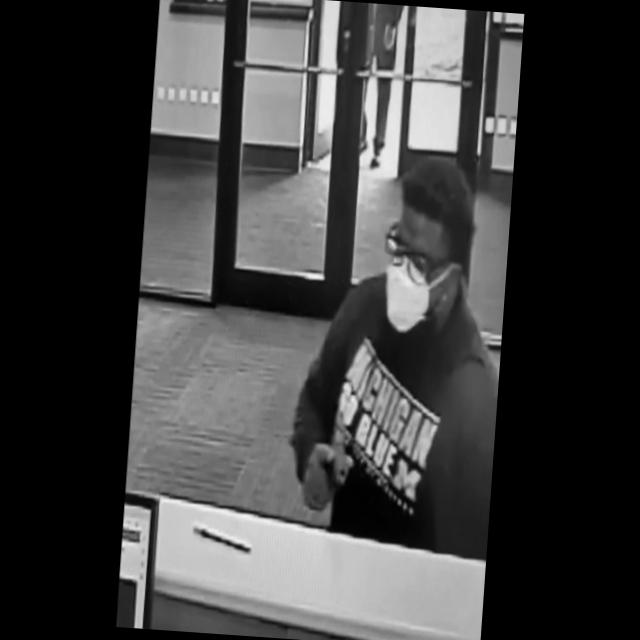gun: (314, 427, 354, 510)
person with a gun: (284, 147, 514, 561)
